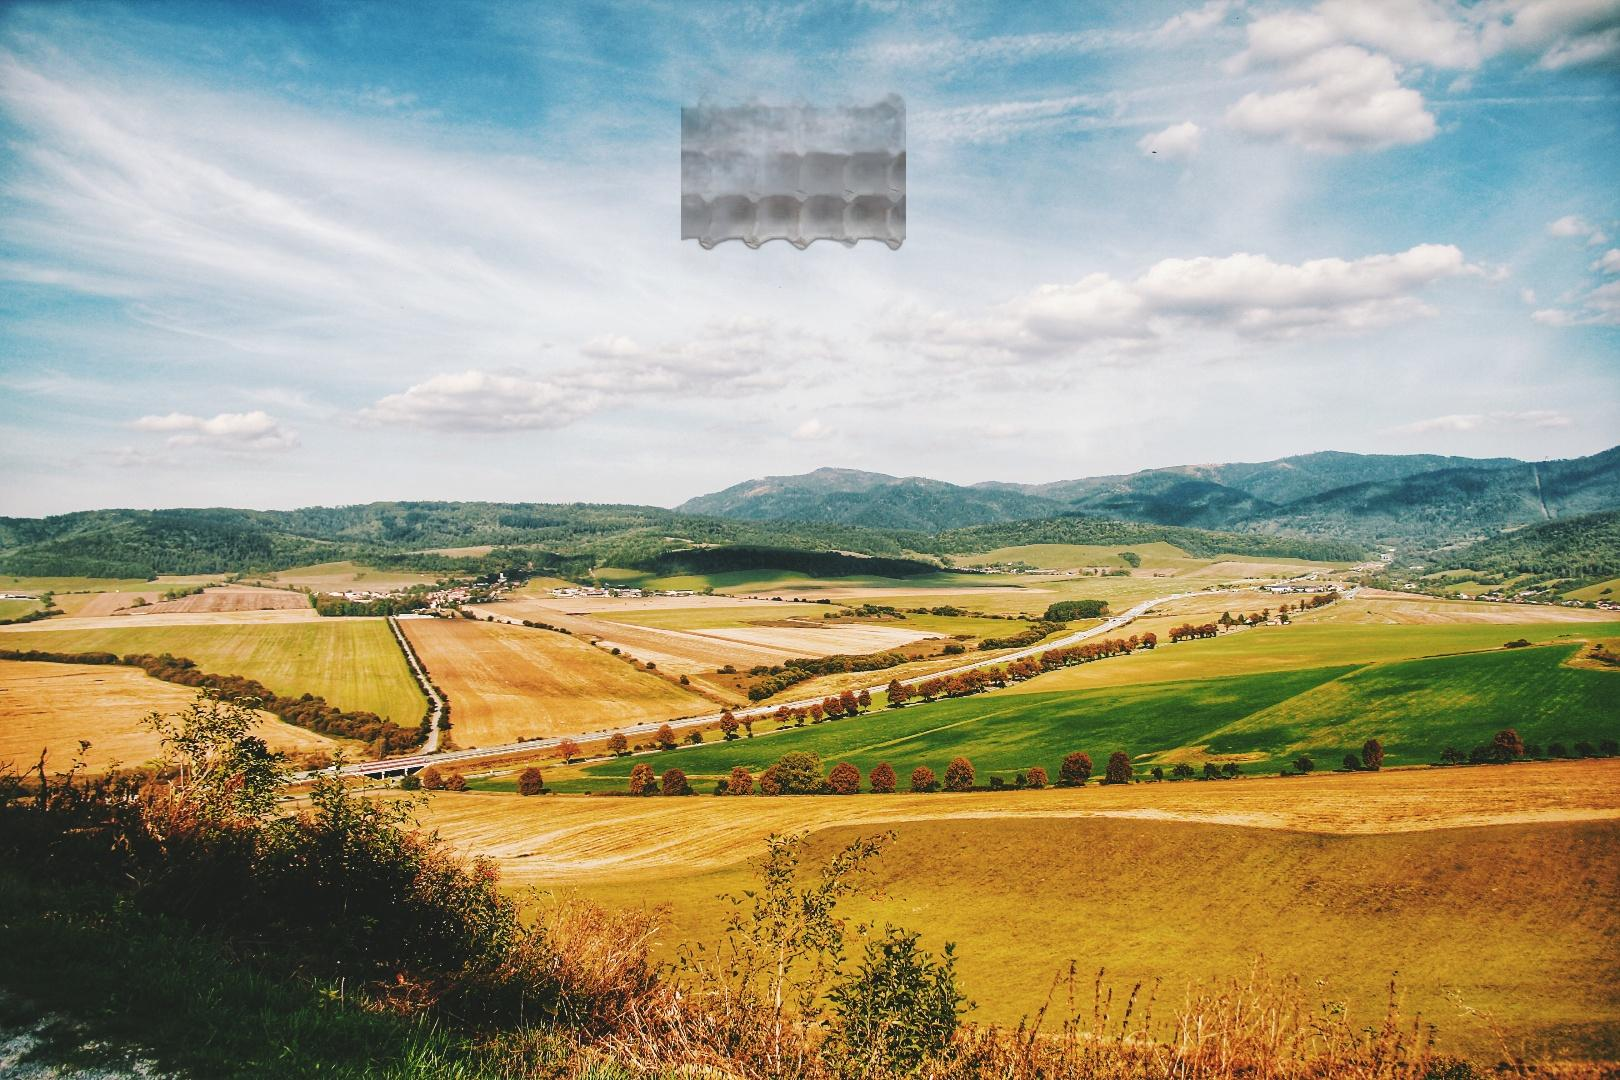trashbox-cardboard: (681, 59, 906, 284)
